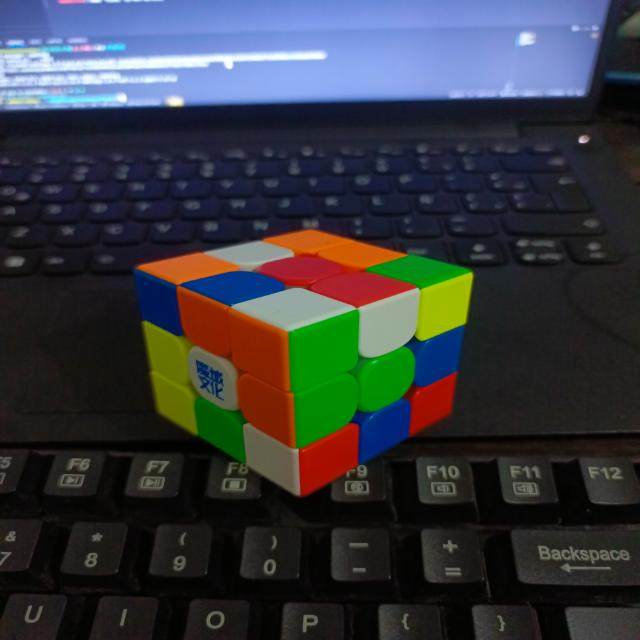rubik: (132, 227, 474, 498)
